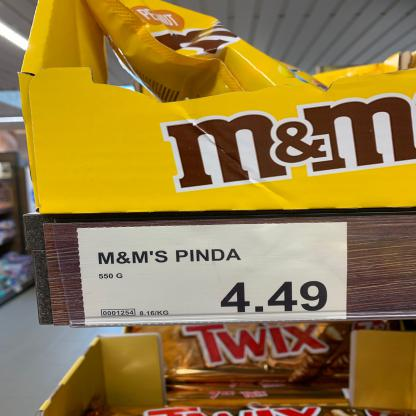prtg: (76, 223, 349, 326)
